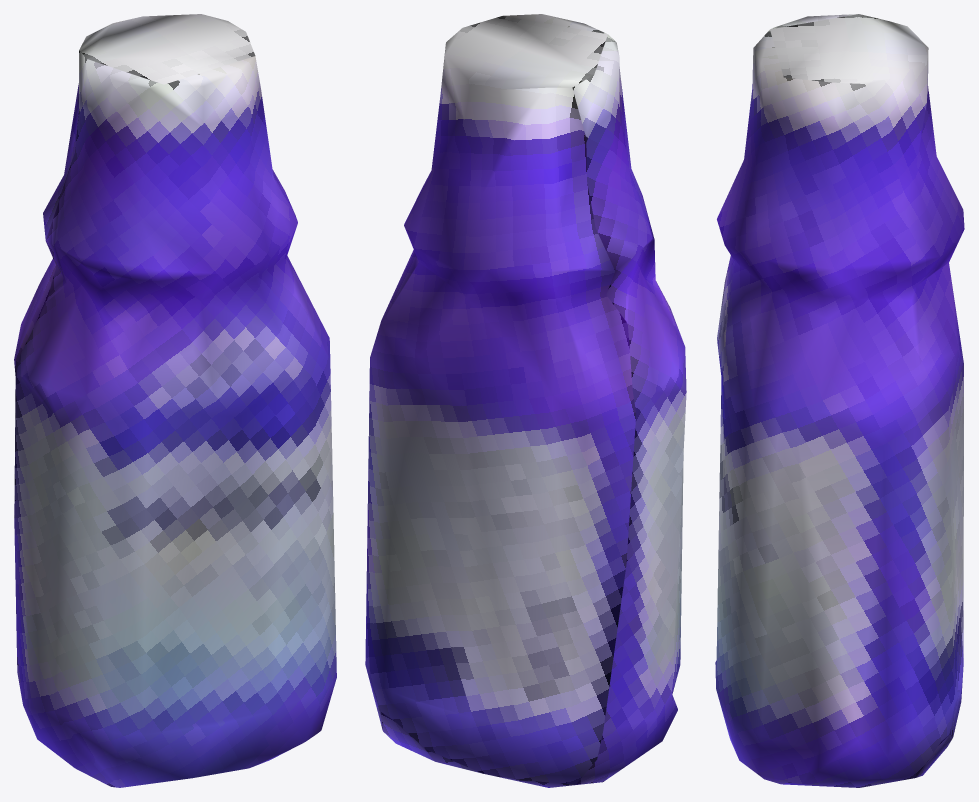
The model's file is Phillips_Milk_of_Magnesia_Saline_Laxative_Liquid_Original-low.glb.
The picture shows the model from 3 angles, left to right: view 1: azimuth 30°, elevation 25°; view 2: azimuth 150°, elevation 25°; view 3: azimuth 270°, elevation 25°; orthographic projection.
Visible parts, largest first — view 1: Phillips_Milk_of_Magnesia_Saline_Laxative_Liquid_Original; view 2: Phillips_Milk_of_Magnesia_Saline_Laxative_Liquid_Original; view 3: Phillips_Milk_of_Magnesia_Saline_Laxative_Liquid_Original.
Boxes of the visible parts, x1=… form: Phillips_Milk_of_Magnesia_Saline_Laxative_Liquid_Original: x1=14, y1=14, x2=336, y2=787; Phillips_Milk_of_Magnesia_Saline_Laxative_Liquid_Original: x1=365, y1=14, x2=686, y2=787; Phillips_Milk_of_Magnesia_Saline_Laxative_Liquid_Original: x1=715, y1=14, x2=964, y2=787.
Size of the model in its own units: 0.0725 by 0.1737 by 0.0566.
Materials: 1 (1 with a texture image).
